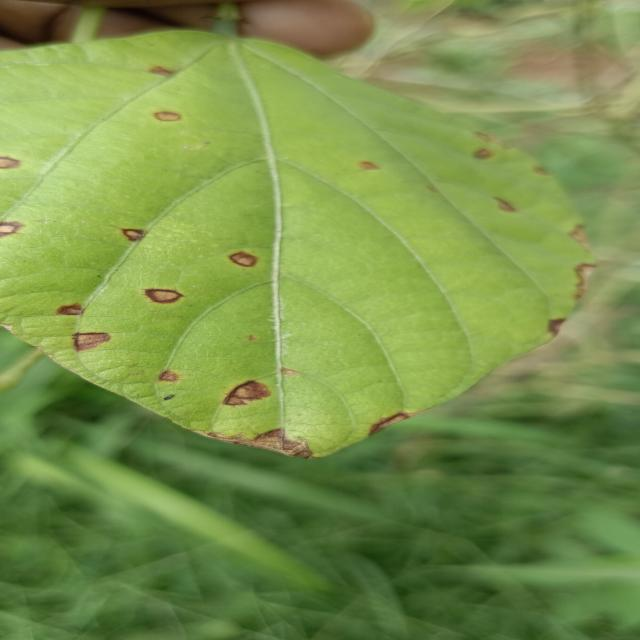Dolicos bean_cercospora leaf spot: (8, 30, 596, 462)
